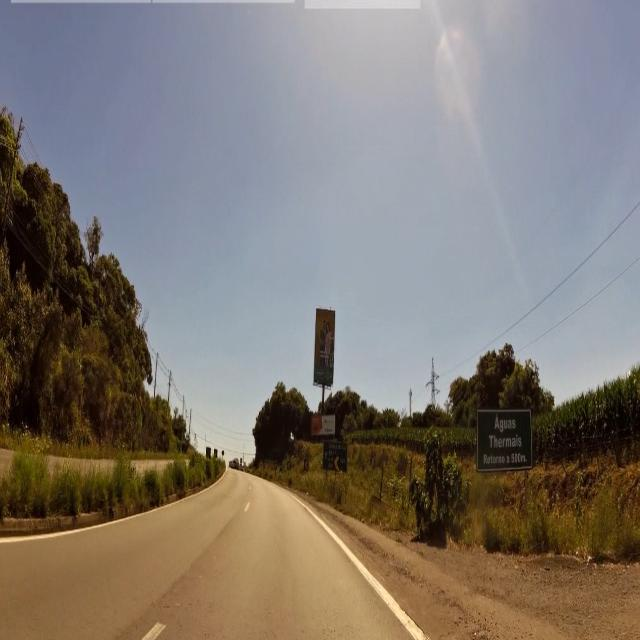LOC-6: (480, 408, 531, 463)
